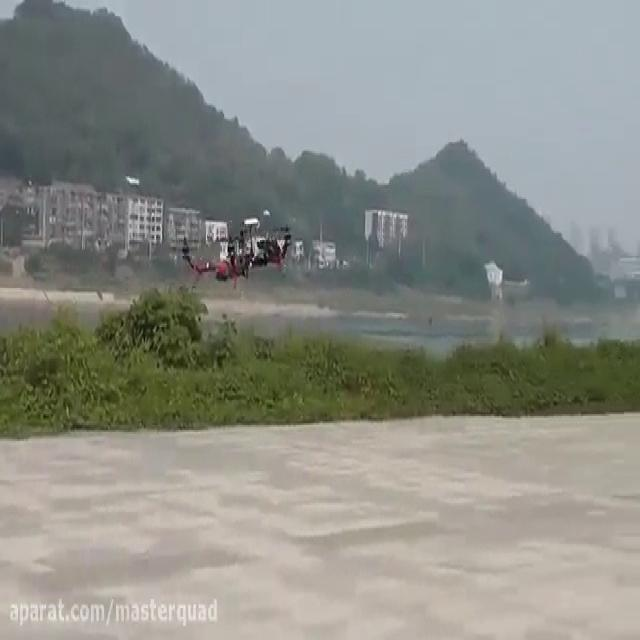drone: (172, 205, 295, 292)
